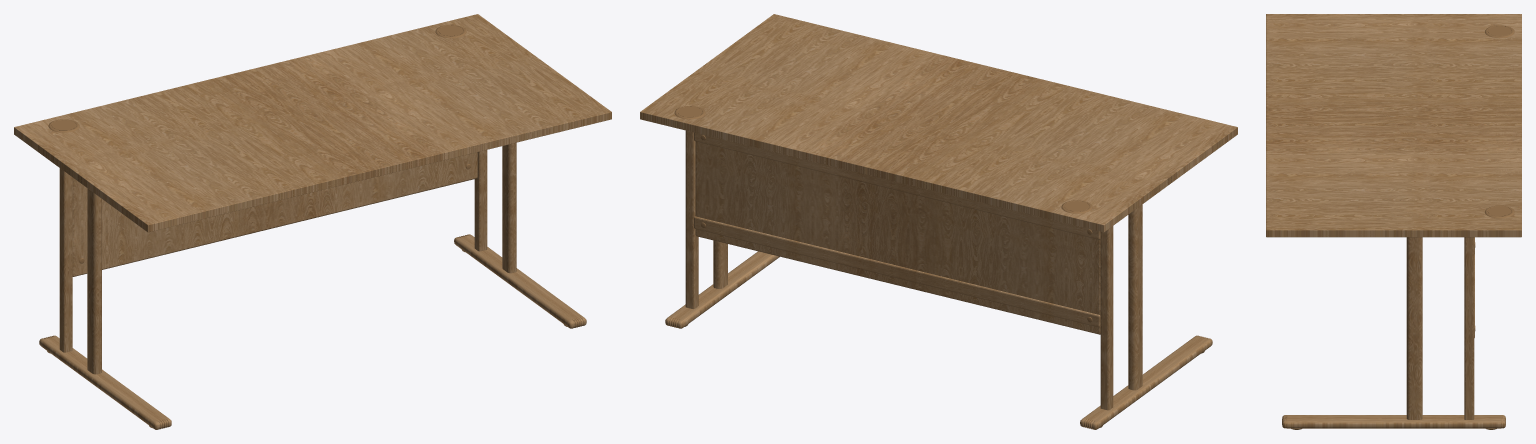
Rendered from desk.glb.
The picture shows the model from 3 angles, left to right: view 1: azimuth 30°, elevation 25°; view 2: azimuth 150°, elevation 25°; view 3: azimuth 270°, elevation 25°; orthographic projection. The views are drawn at different scales.
Visible parts, largest first — view 1: DeskTop_Plane, BackDesk_Plane.004, Legs1_Cube.001, LegsBottom_Plane.003, Legs2_Cube; view 2: DeskTop_Plane, BackDesk_Plane.004, Frame2_Plane.005, Legs2_Cube, LegsBottom_Plane.003, Frame1_Plane.005, Legs1_Cube.001; view 3: DeskTop_Plane, Legs1_Cube.001, LegsBottom_Plane.003, Legs2_Cube, CableCover_Circle.003, CableHole_Circle.002.
Boxes of the visible parts, left/top/right/bottom form: DeskTop_Plane: left=14, top=14, right=611, bottom=232; BackDesk_Plane.004: left=72, top=152, right=477, bottom=276; Legs1_Cube.001: left=87, top=142, right=516, bottom=374; LegsBottom_Plane.003: left=40, top=235, right=582, bottom=427; Legs2_Cube: left=59, top=150, right=487, bottom=352; DeskTop_Plane: left=640, top=14, right=1237, bottom=232; BackDesk_Plane.004: left=695, top=141, right=1100, bottom=334; Frame2_Plane.005: left=694, top=216, right=1100, bottom=327; Legs2_Cube: left=685, top=130, right=1113, bottom=410; LegsBottom_Plane.003: left=669, top=251, right=1211, bottom=427; Frame1_Plane.005: left=694, top=132, right=1100, bottom=239; Legs1_Cube.001: left=713, top=204, right=1142, bottom=390; DeskTop_Plane: left=1266, top=14, right=1521, bottom=237; Legs1_Cube.001: left=1406, top=237, right=1422, bottom=419; LegsBottom_Plane.003: left=1287, top=415, right=1500, bottom=428; Legs2_Cube: left=1464, top=237, right=1474, bottom=419; CableCover_Circle.003: left=1487, top=26, right=1511, bottom=216; CableHole_Circle.002: left=1485, top=25, right=1514, bottom=218.
Size of the model in its own units: 1.6 by 0.7236 by 0.8.
Materials: 4 (4 with a texture image).
